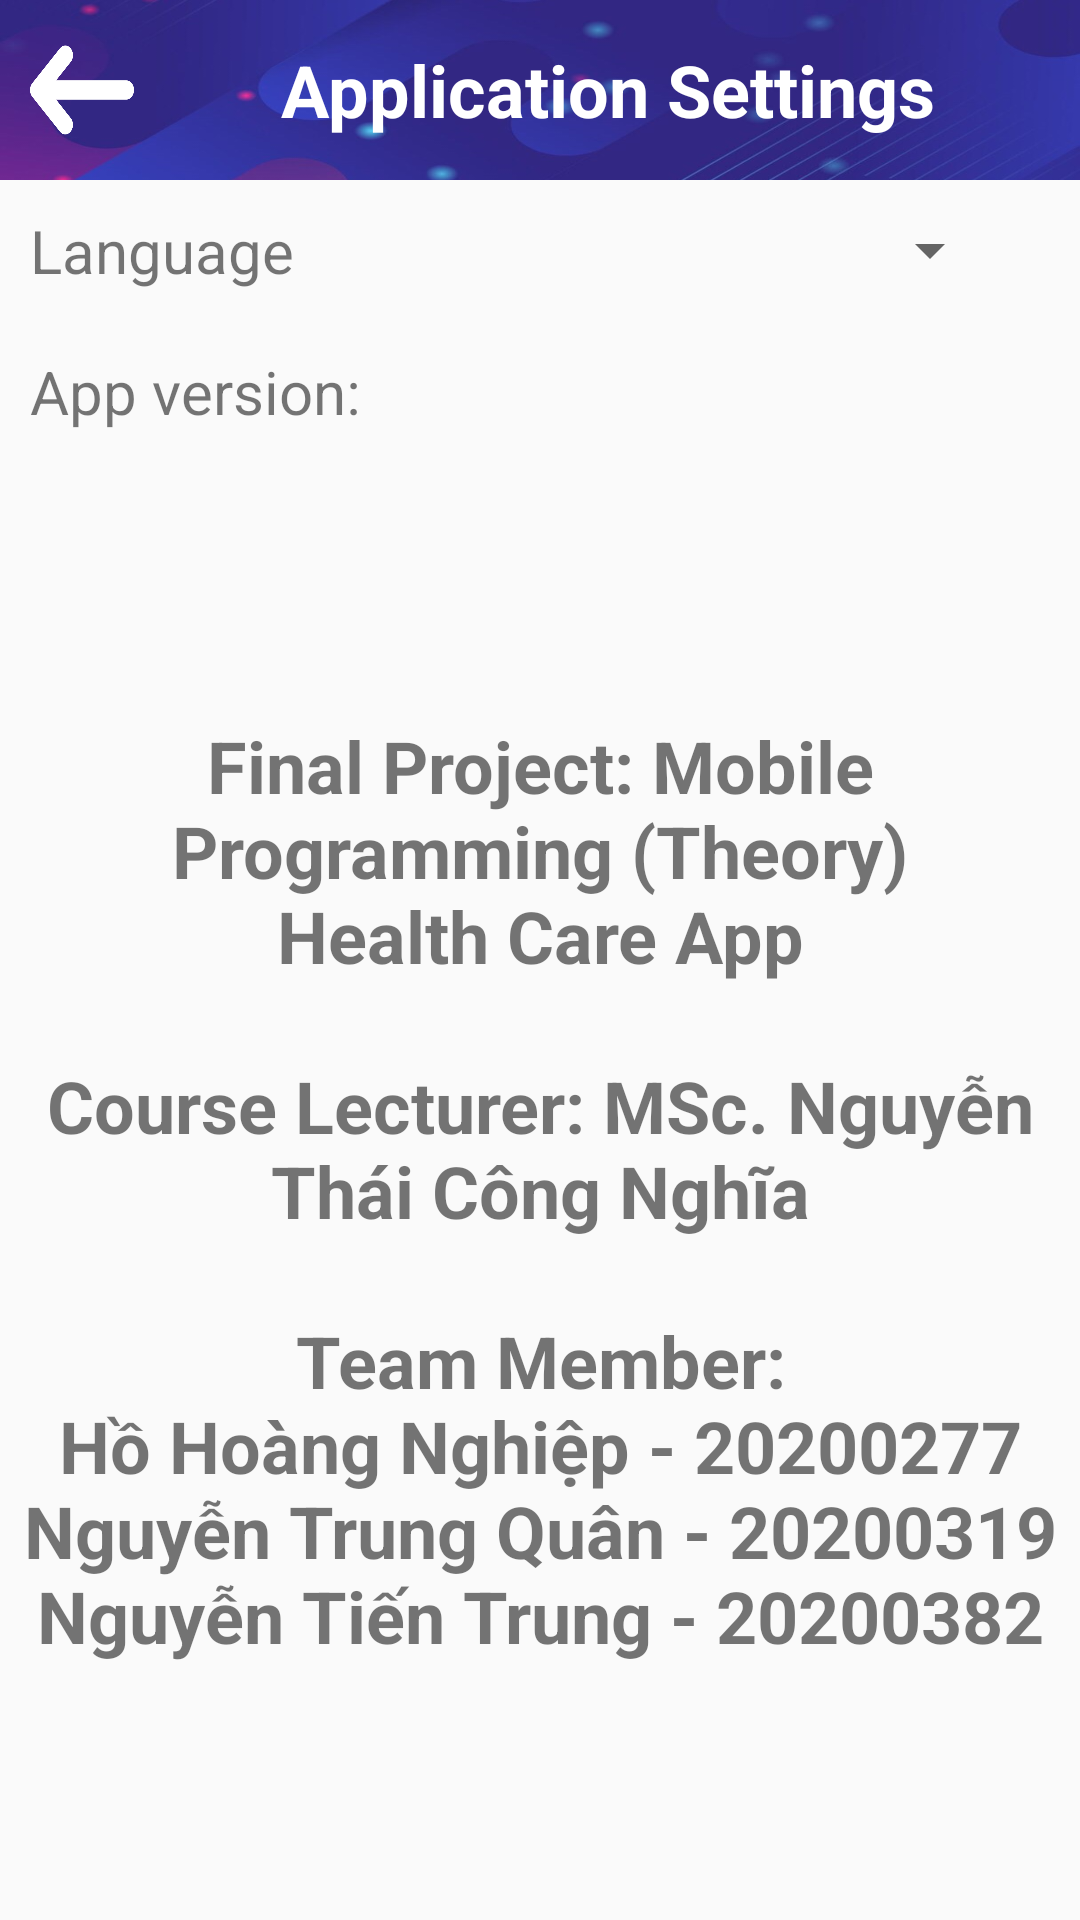

Point at icon controls on the screen. Image size 1080*1920, points as [x,y].
back: [82,90]
